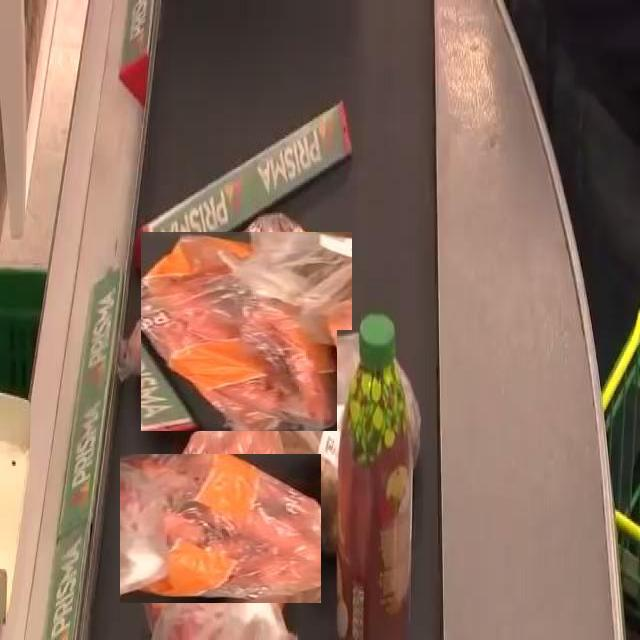beverage: (337, 330, 420, 634)
fruit: (144, 229, 350, 434), (133, 441, 308, 617)
